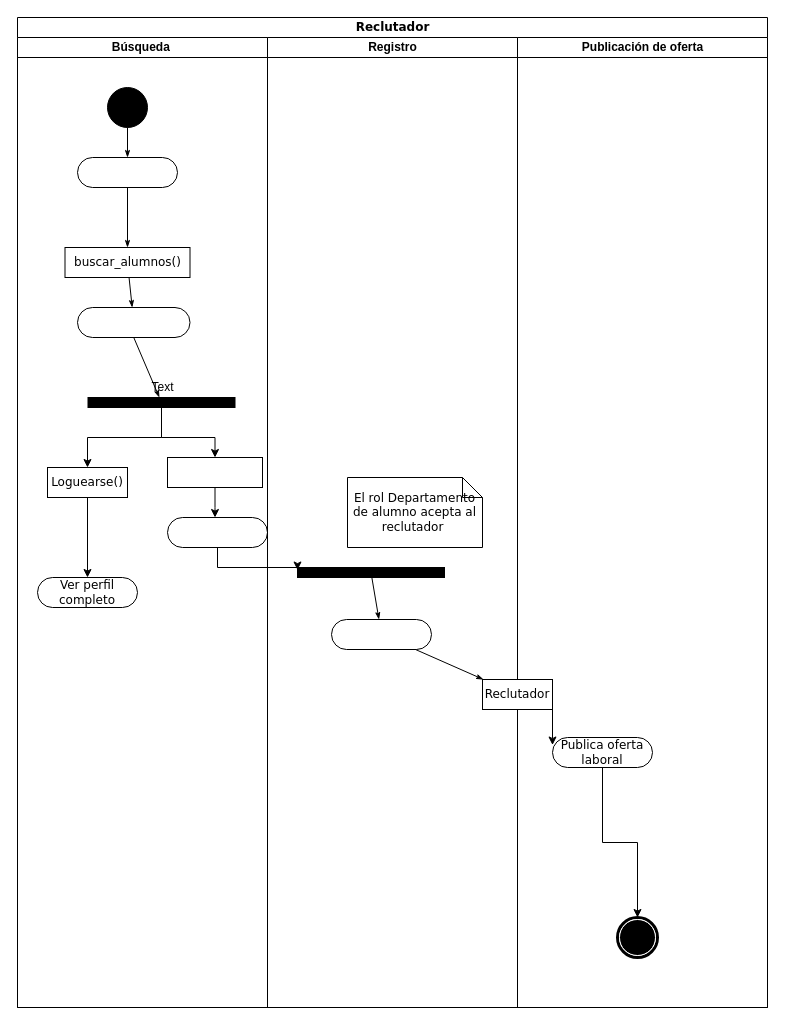
Some shapes in this 785 by 1025 pixel diagram are drawn without their labels. Each missing label, with the centre of its shape:
"Aceptar reclutador" belongs at (381,634).
"Buscar alumnos" belongs at (127,172).
"Enviar solicitud de registro" belongs at (217,532).
"Registrar()" belongs at (214,472).
"Solicitar ver perfil completo" belongs at (133,322).
